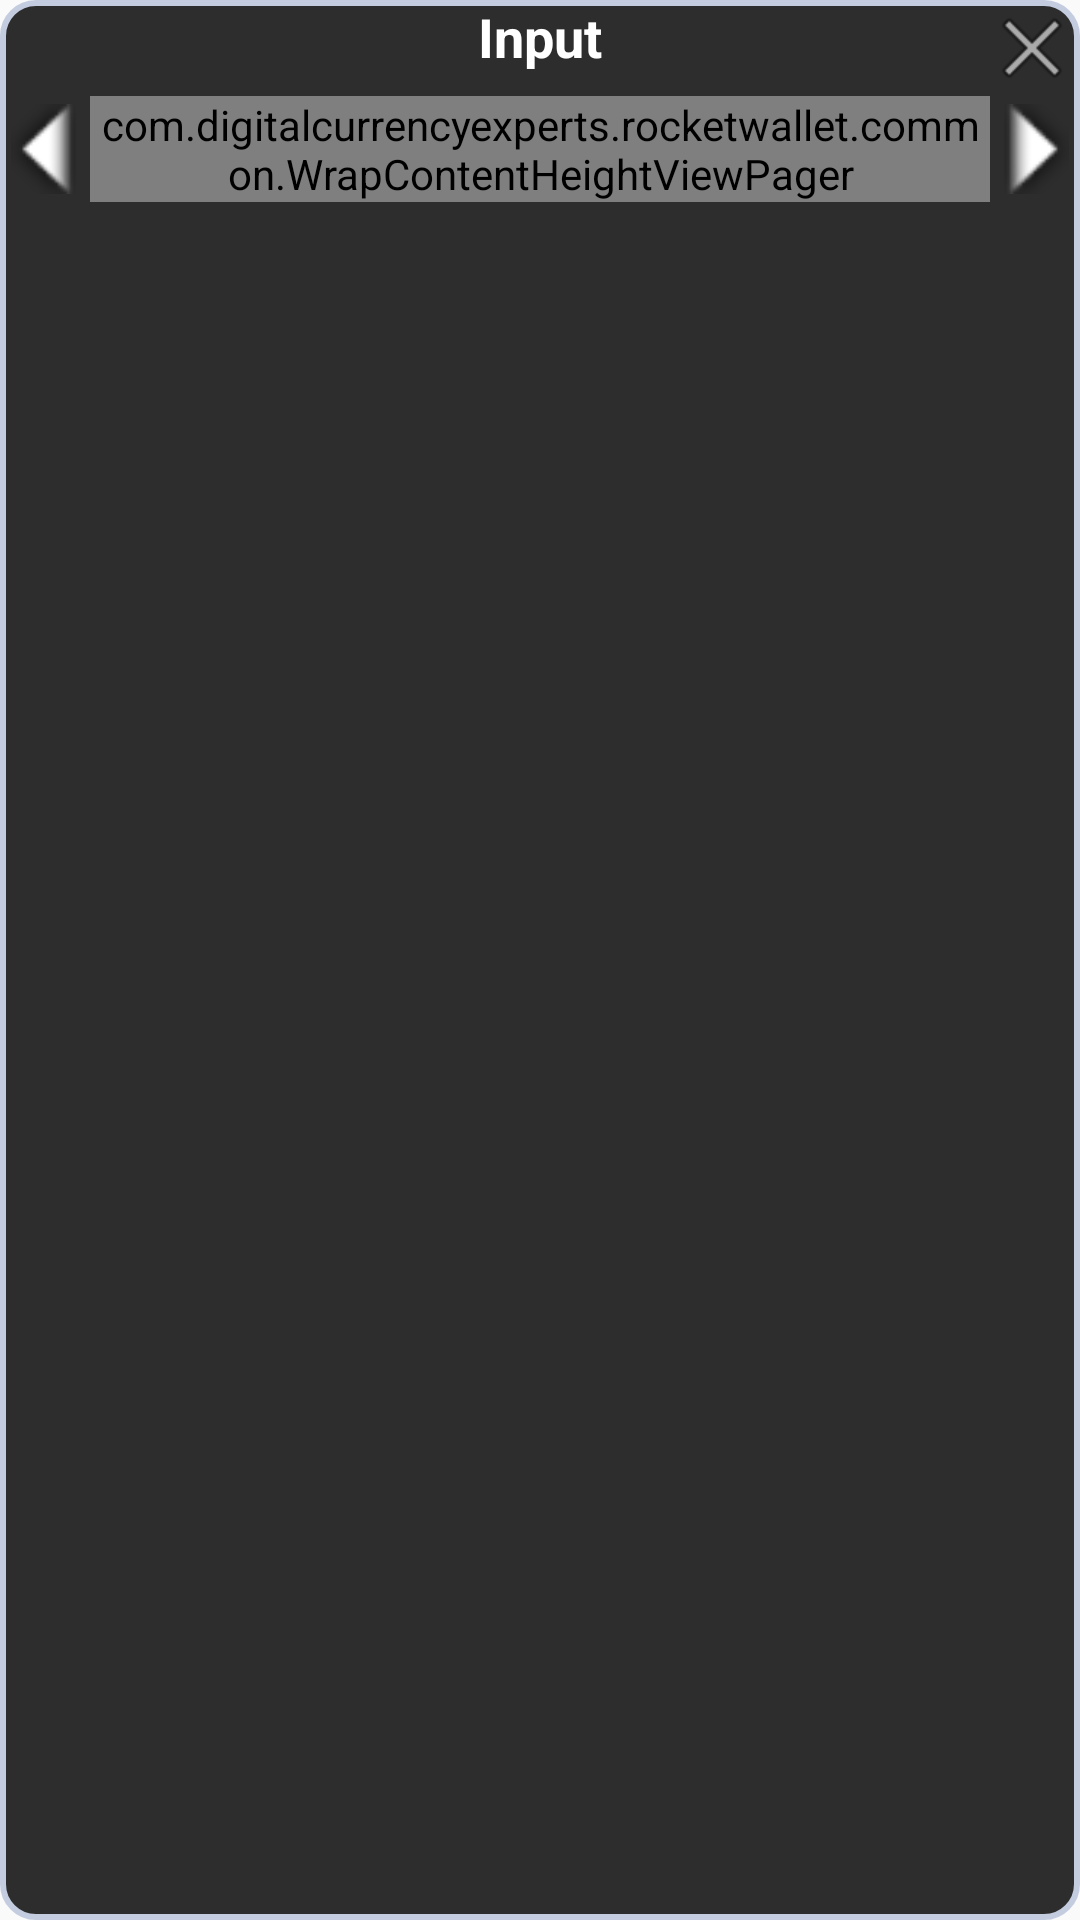

Screen size 1080w x 1920h. Icon name, then its center in pixels as (x=x, y=y):
close clear cancel: (x=1032, y=48)
